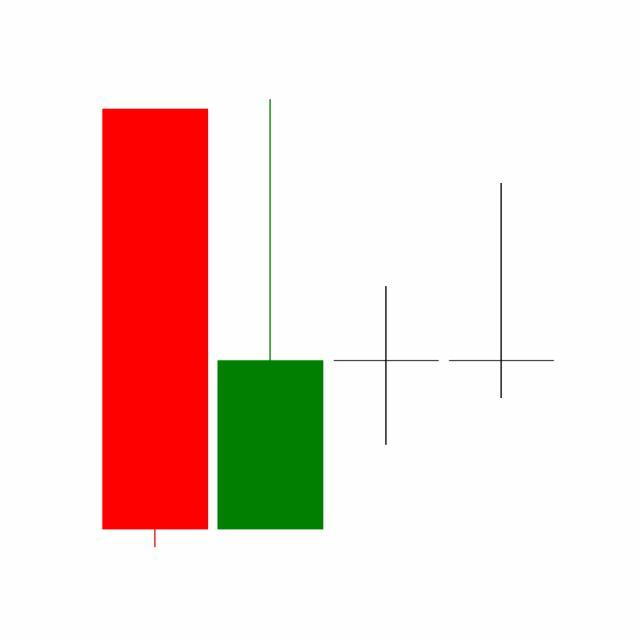Spinning Top: (444, 182, 560, 402)
